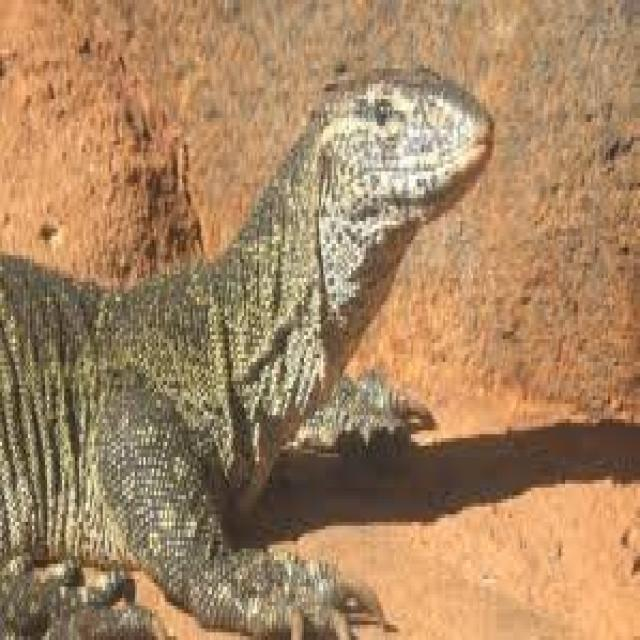Lizard: (0, 60, 506, 640)
